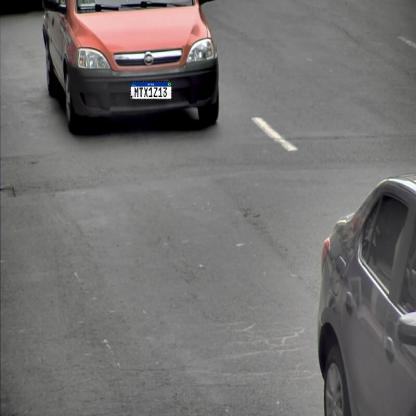PlacaM: (130, 81, 172, 100)
